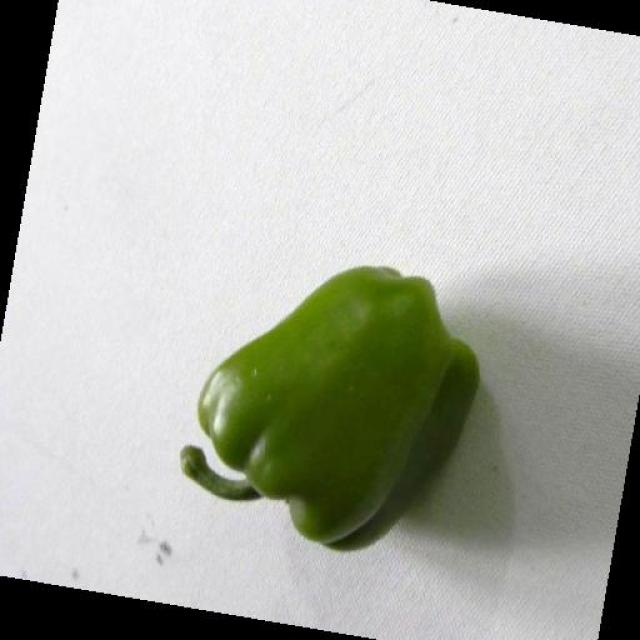Fresh_Capsicum: (208, 282, 477, 534)
